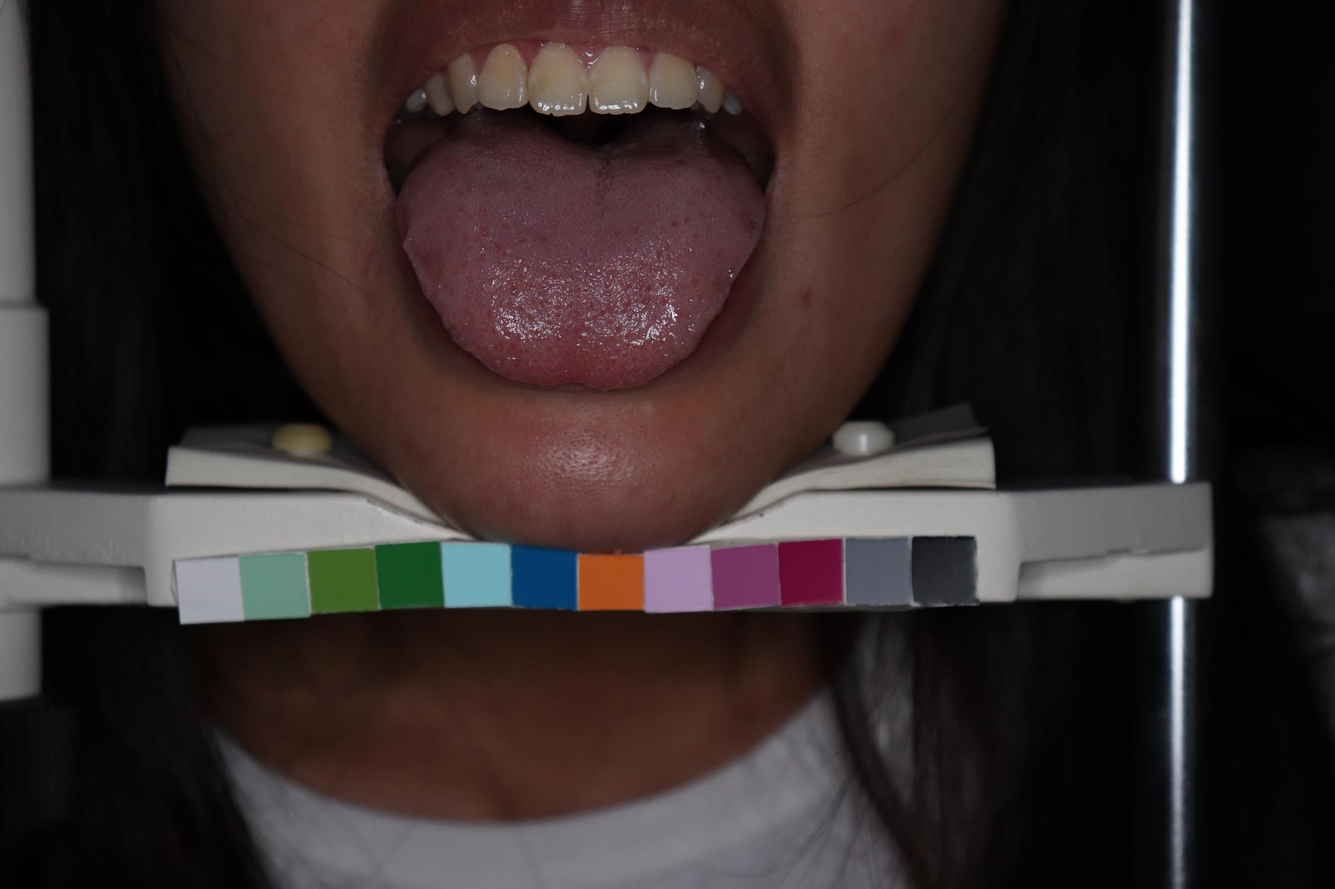baitaishe: (395, 114, 765, 389)
chihenshe: (400, 231, 446, 302)
hongdianshe: (669, 215, 681, 231), (643, 282, 653, 294)
shenquao: (481, 115, 701, 172)
